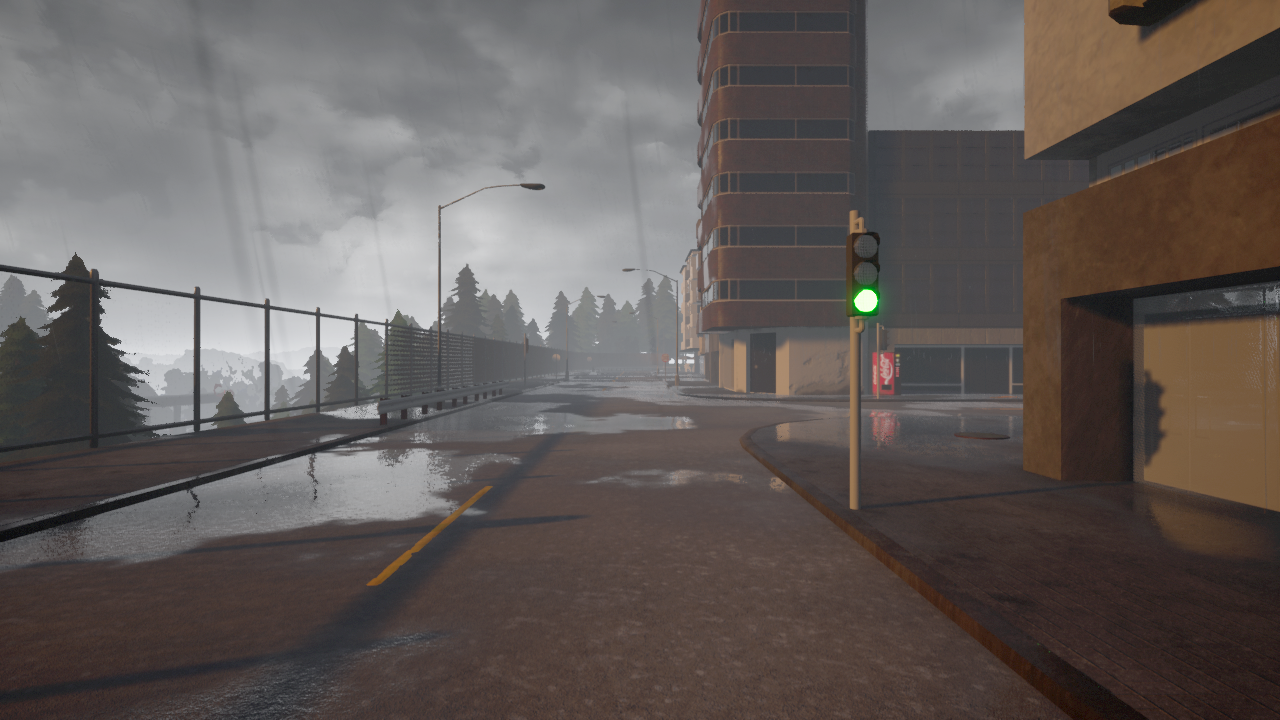green: (843, 230, 882, 319)
